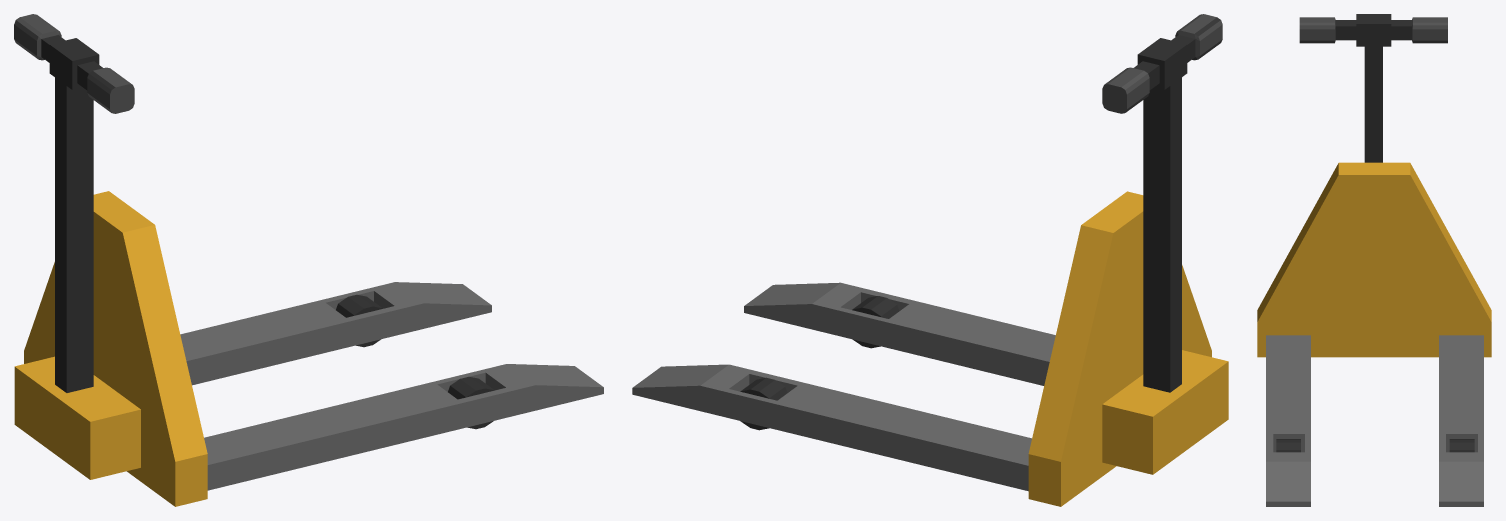
3 renders of one model, left to right at view 1: azimuth 30°, elevation 25°; view 2: azimuth 150°, elevation 25°; view 3: azimuth 270°, elevation 25°, orthographic. The views are drawn at different scales.
Parts seen in each view (by area): view 1: Cube.391, G-2, Cube.394, Cube.393, Cube.392, Cube.389; view 2: Cube.391, G-2, Cube.394, Cube.393, Cube.389, Cube.392; view 3: G-2, Cube.391, Cube.394, Cube.392, Cube.389.
Part boxes in pixels (bbox=[...]): Cube.391: bbox=[180, 282, 603, 490]; G-2: bbox=[24, 191, 207, 506]; Cube.394: bbox=[14, 14, 134, 392]; Cube.393: bbox=[14, 356, 140, 479]; Cube.392: bbox=[336, 294, 382, 347]; Cube.389: bbox=[448, 376, 494, 429]; Cube.391: bbox=[632, 282, 1055, 491]; G-2: bbox=[1028, 191, 1211, 506]; Cube.394: bbox=[1102, 14, 1222, 392]; Cube.393: bbox=[1102, 350, 1228, 474]; Cube.389: bbox=[852, 296, 899, 348]; Cube.392: bbox=[740, 377, 787, 430]; G-2: bbox=[1257, 162, 1491, 357]; Cube.391: bbox=[1266, 335, 1483, 506]; Cube.394: bbox=[1299, 14, 1447, 162]; Cube.392: bbox=[1449, 439, 1474, 452]; Cube.389: bbox=[1276, 439, 1300, 452].
Bounding box in the file's own units: 306 × 251 × 165.
